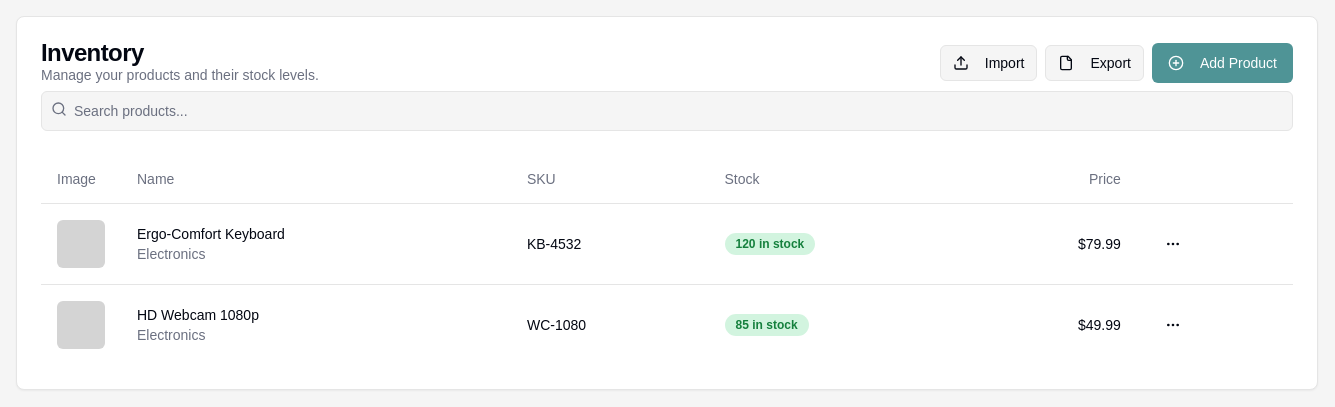
Test: InventoryPage › allows searching for a product
The image size is (1335, 407).
Expected: the text "Ergo-Comfort Keyboard" is shown, top-left (137, 226), bottom-right (285, 242)
Type "Webcam" into the field with placeholder "Search products..." at (667, 111), box top-left (41, 91), bottom-right (1293, 131)
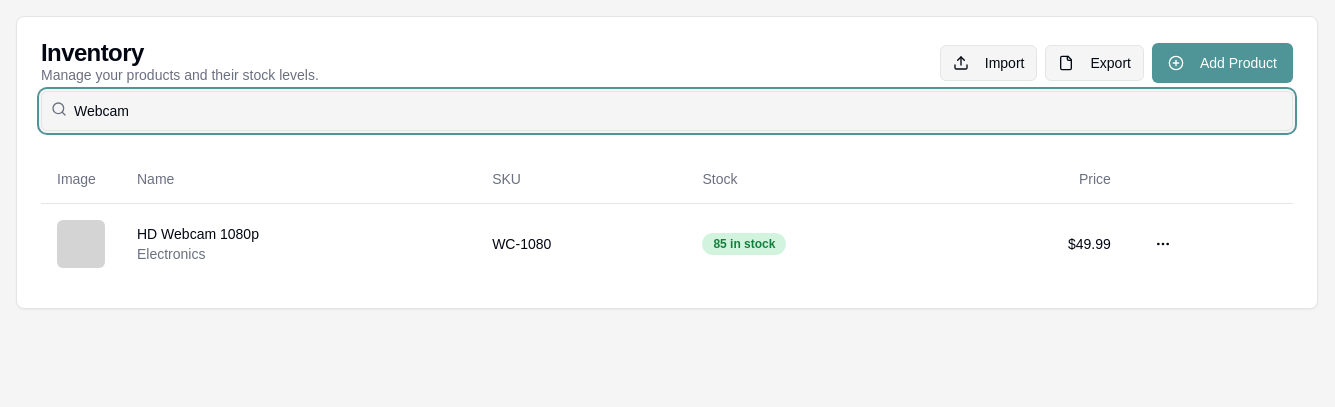
Expected: the text "HD Webcam 1080p" is shown, top-left (137, 226), bottom-right (259, 242)
Result: the text "Ergo-Comfort Keyboard" is gone
